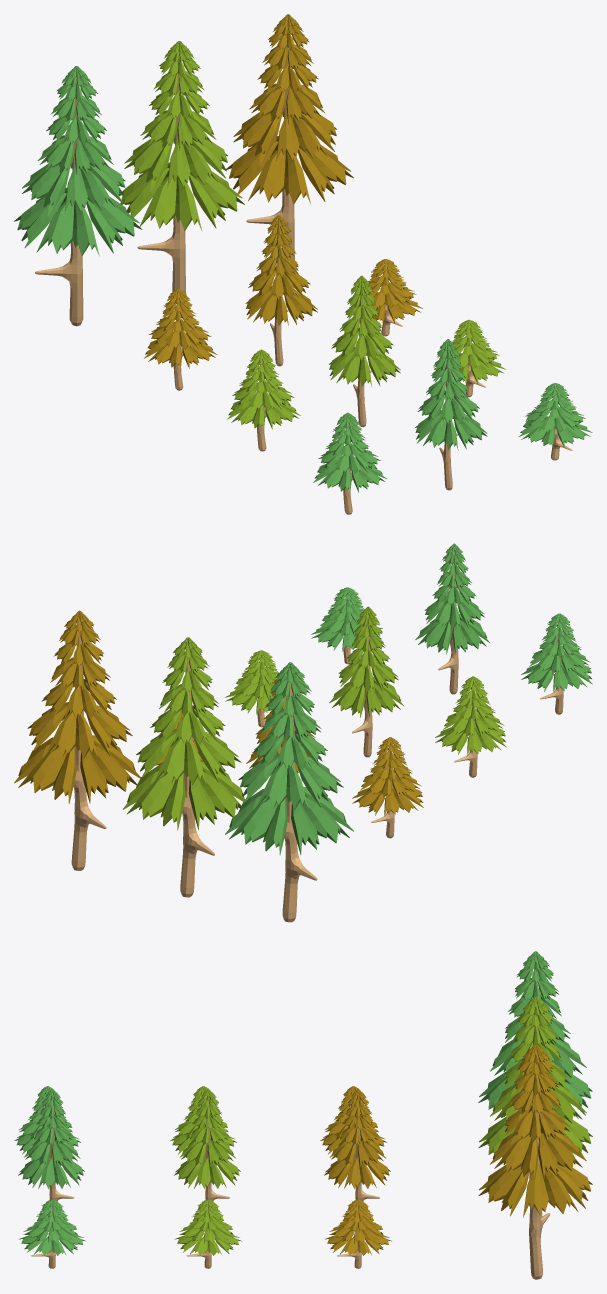
The model's file is PinesTrees.fbx.
3 renders of one model, top to bottom at view 1: azimuth 30°, elevation 25°; view 2: azimuth 150°, elevation 25°; view 3: azimuth 270°, elevation 25°, orthographic. The views are drawn at different scales.
Parts seen in each view (by area): view 1: Giant_Dark_Green, Giant_Green, Giant_Yellow, Large_Yellow, Large_Green, Large_Dark_Green, Medium_Yellow, Medium_Green, Medium_Dark_Green, Small_Dark_Green, Small_Yellow, Small_Green; view 2: Giant_Dark_Green, Giant_Yellow, Giant_Green, Large_Green, Large_Dark_Green, Medium_Green, Medium_Dark_Green, Medium_Yellow, Small_Green, Small_Dark_Green, Large_Yellow; view 3: Giant_Yellow, Giant_Green, Giant_Dark_Green, Large_Dark_Green, Large_Yellow, Large_Green, Small_Green, Small_Dark_Green, Small_Yellow, Medium_Yellow, Medium_Green, Medium_Dark_Green.
Part boxes in pixels (x1=…): Giant_Dark_Green: x1=14, y1=66, x2=142, y2=326; Giant_Green: x1=119, y1=41, x2=244, y2=292; Giant_Yellow: x1=226, y1=14, x2=353, y2=269; Large_Yellow: x1=245, y1=215, x2=317, y2=366; Large_Green: x1=329, y1=275, x2=400, y2=427; Large_Dark_Green: x1=415, y1=339, x2=487, y2=490; Medium_Yellow: x1=144, y1=288, x2=217, y2=390; Medium_Green: x1=227, y1=349, x2=300, y2=451; Medium_Dark_Green: x1=313, y1=412, x2=386, y2=514; Small_Dark_Green: x1=518, y1=383, x2=592, y2=460; Small_Yellow: x1=353, y1=259, x2=422, y2=336; Small_Green: x1=432, y1=319, x2=505, y2=397; Giant_Dark_Green: x1=225, y1=662, x2=353, y2=922; Giant_Yellow: x1=14, y1=610, x2=140, y2=870; Giant_Green: x1=122, y1=637, x2=245, y2=897; Large_Green: x1=329, y1=606, x2=403, y2=757; Large_Dark_Green: x1=415, y1=543, x2=489, y2=694; Medium_Green: x1=435, y1=676, x2=506, y2=777; Medium_Dark_Green: x1=521, y1=613, x2=592, y2=714; Medium_Yellow: x1=352, y1=737, x2=423, y2=838; Small_Green: x1=225, y1=650, x2=278, y2=727; Small_Dark_Green: x1=311, y1=587, x2=382, y2=664; Large_Yellow: x1=246, y1=670, x2=318, y2=775; Giant_Yellow: x1=478, y1=1044, x2=592, y2=1279; Giant_Green: x1=478, y1=996, x2=592, y2=1228; Giant_Dark_Green: x1=478, y1=951, x2=592, y2=1118; Large_Dark_Green: x1=18, y1=1089, x2=84, y2=1200; Large_Yellow: x1=324, y1=1089, x2=390, y2=1200; Large_Green: x1=174, y1=1089, x2=240, y2=1200; Small_Green: x1=174, y1=1199, x2=241, y2=1268; Small_Dark_Green: x1=19, y1=1199, x2=85, y2=1268; Small_Yellow: x1=325, y1=1199, x2=391, y2=1268; Medium_Yellow: x1=320, y1=1086, x2=386, y2=1163; Medium_Green: x1=170, y1=1086, x2=236, y2=1163; Medium_Dark_Green: x1=14, y1=1086, x2=80, y2=1163.
Size of the model in its own units: 765 by 588 by 1315.
